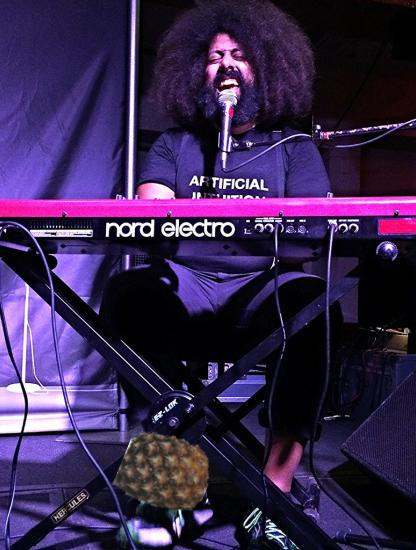Pineapple: (121, 427, 211, 517)
